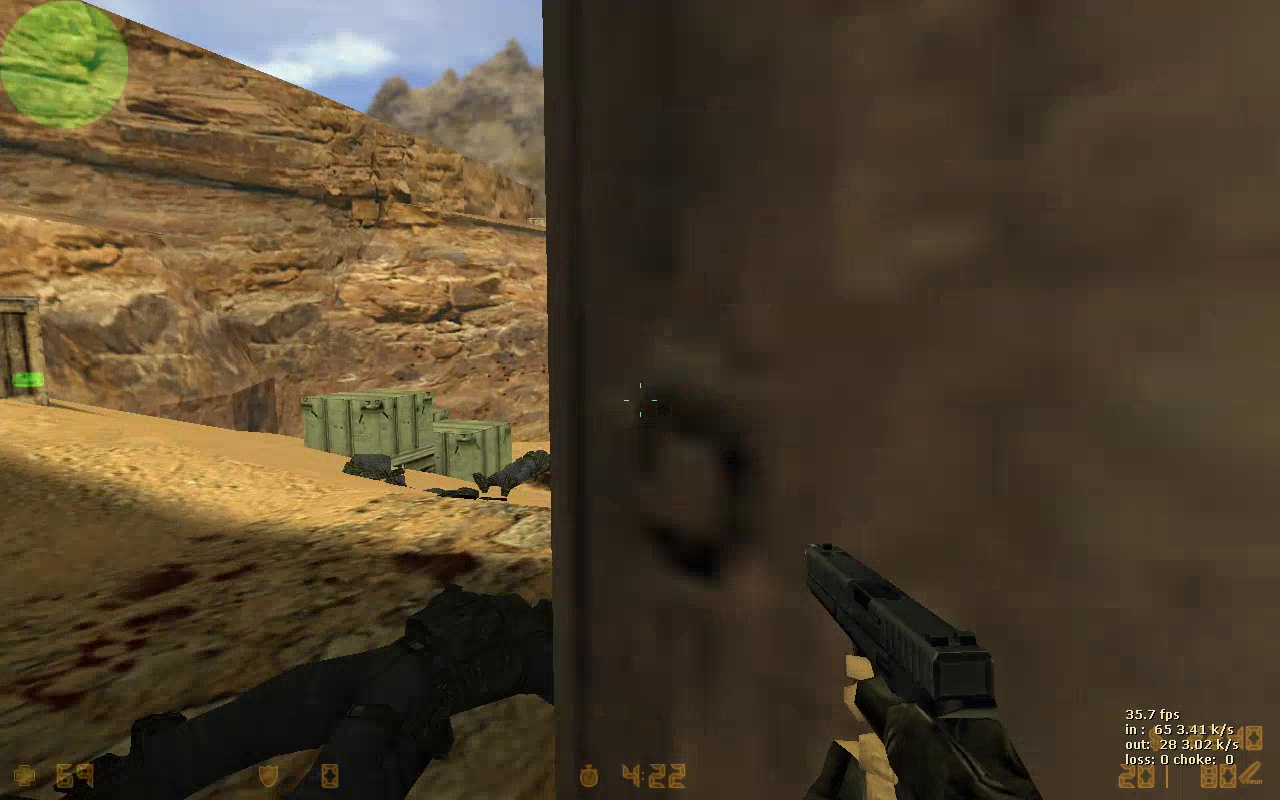dead: (63, 589, 554, 800), (468, 444, 551, 501)
